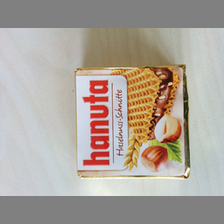chocolate: (75, 64, 191, 179)
